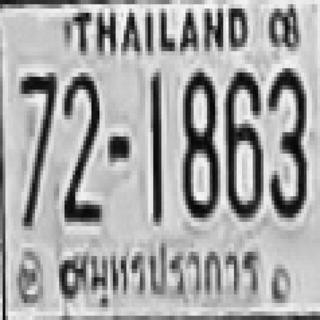N01: (148, 73, 161, 222)
N02: (62, 70, 100, 220)
N03: (266, 66, 304, 215)
N06: (223, 70, 261, 216)
N07: (17, 70, 55, 224)
N08: (180, 68, 218, 213)
P57: (71, 236, 267, 302)
